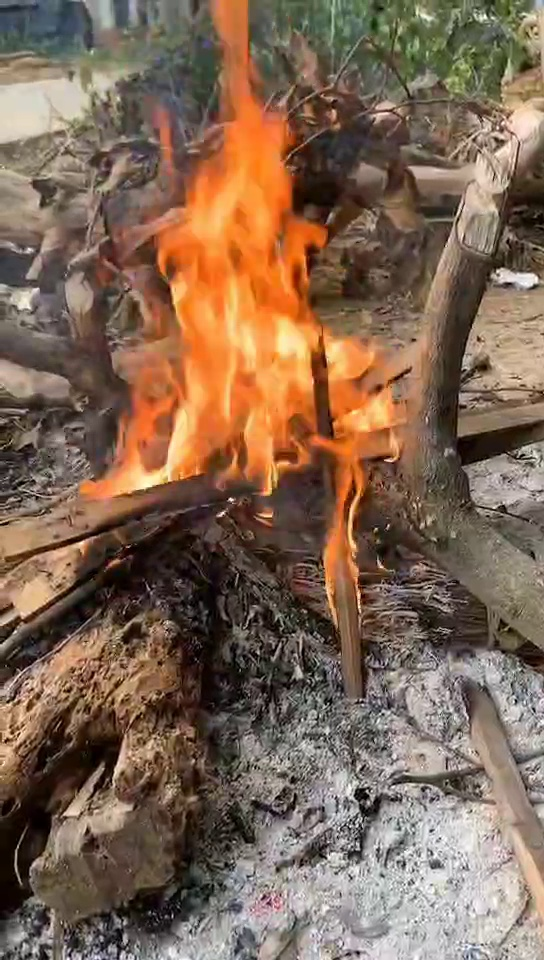fire: (137, 87, 387, 477)
